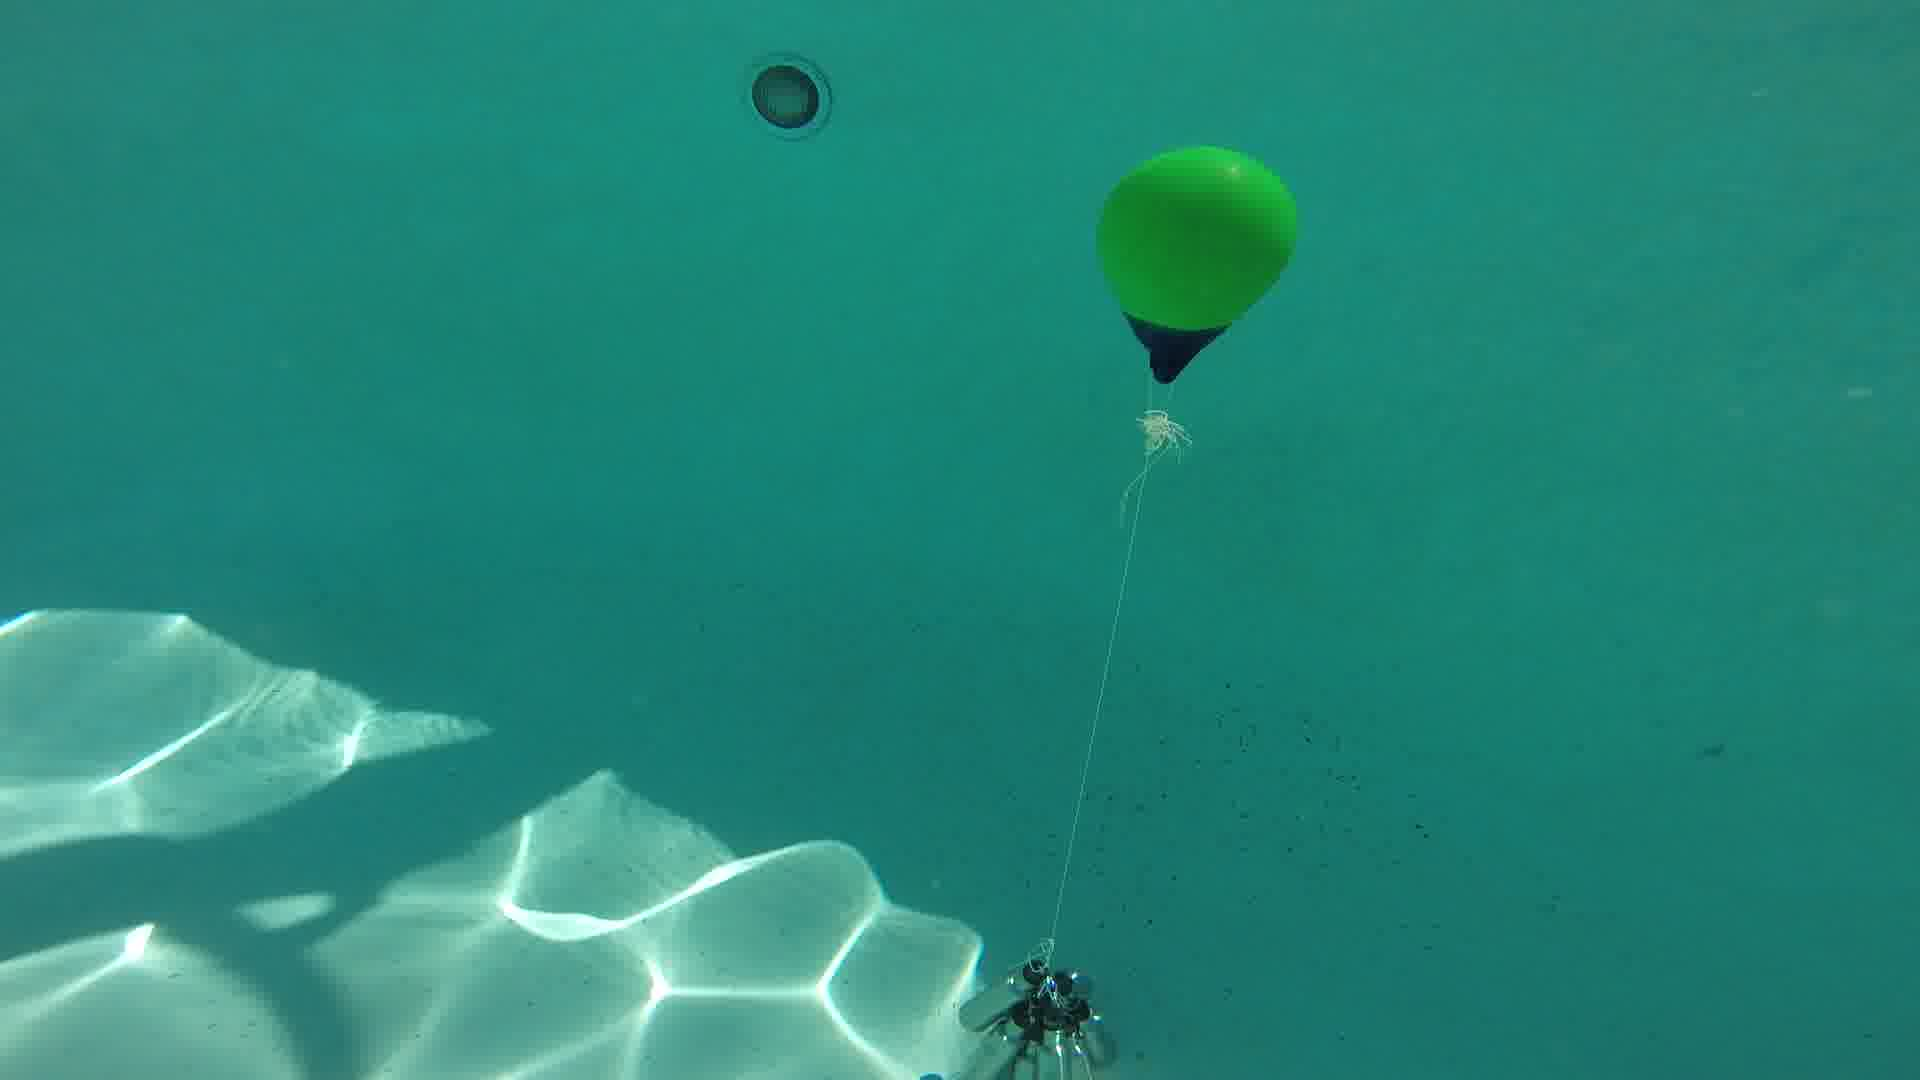yellow_buoy: (1097, 144, 1302, 388)
